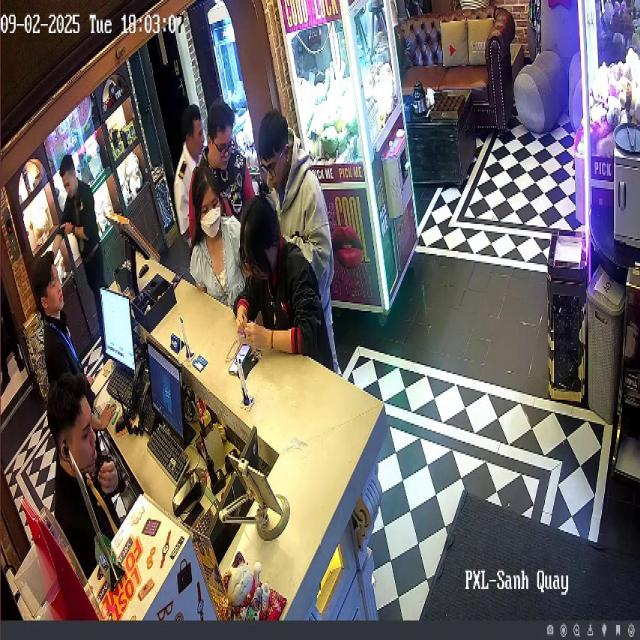khach: (250, 83, 348, 375), (235, 182, 330, 386), (190, 168, 252, 331), (204, 86, 255, 228)
nhan vien: (44, 358, 127, 604), (32, 239, 101, 446), (55, 144, 114, 339), (171, 100, 216, 260)
